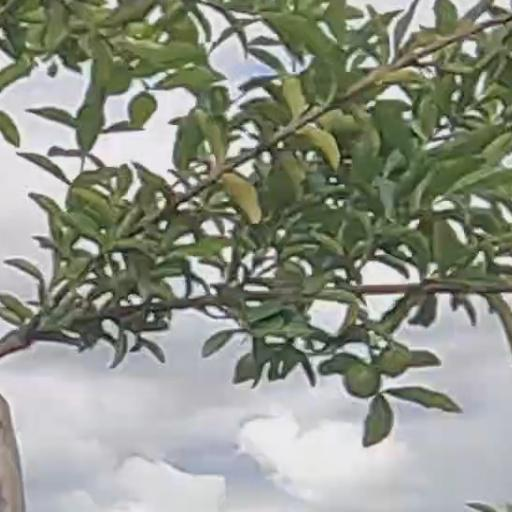acerola_verde: (346, 363, 379, 399)
